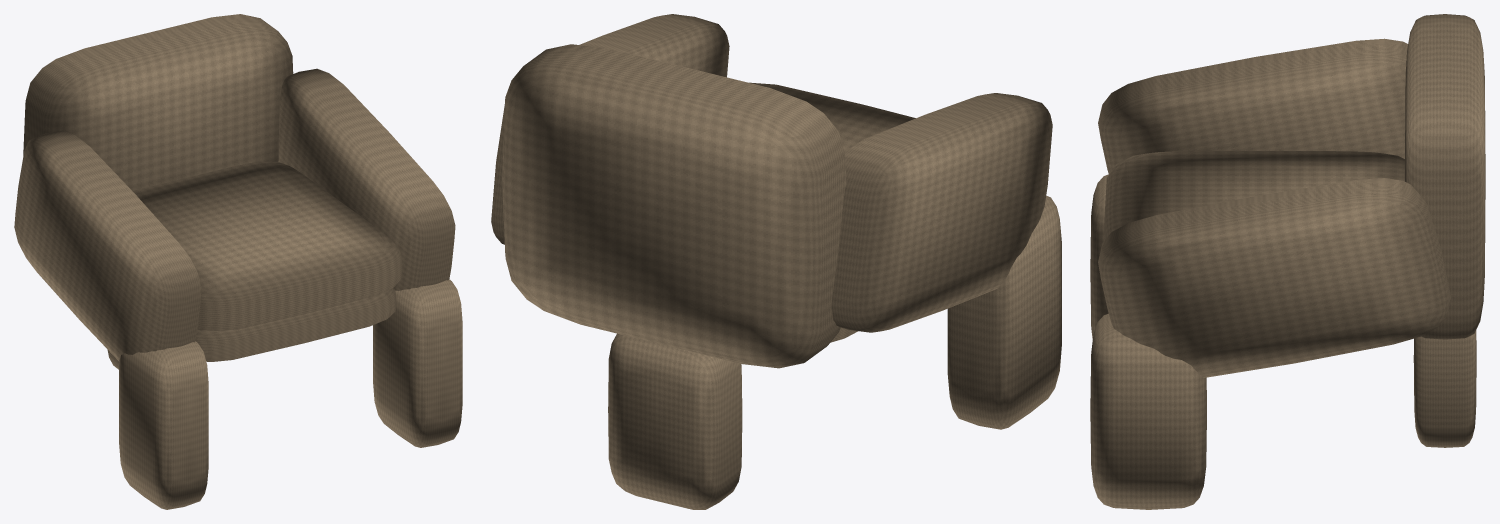
The picture shows the model from 3 angles, left to right: view 1: azimuth 30°, elevation 25°; view 2: azimuth 150°, elevation 25°; view 3: azimuth 270°, elevation 25°; orthographic projection. The views are drawn at different scales.
Visible parts, largest first — view 1: 3 backrest, 1 seat, 4 left_armrest, 5 right_armrest, 6 left_front_leg, 7 right_front_leg, 2 seat_base; view 2: 3 backrest, 4 left_armrest, 8 back_leg, 6 left_front_leg, 5 right_armrest, 1 seat; view 3: 5 right_armrest, 4 left_armrest, 3 backrest, 7 right_front_leg, 1 seat, 8 back_leg, 6 left_front_leg.
Part boxes in pixels (left/top/right/bottom): 3 backrest: left=23, top=14, right=293, bottom=190; 1 seat: left=132, top=161, right=402, bottom=330; 4 left_armrest: left=14, top=130, right=201, bottom=361; 5 right_armrest: left=278, top=68, right=455, bottom=290; 6 left_front_leg: left=119, top=341, right=208, bottom=509; 7 right_front_leg: left=373, top=279, right=462, bottom=447; 2 seat_base: left=195, top=288, right=396, bottom=361; 3 backrest: left=502, top=44, right=846, bottom=368; 4 left_armrest: left=831, top=93, right=1052, bottom=332; 8 back_leg: left=608, top=333, right=742, bottom=509; 6 left_front_leg: left=947, top=196, right=1061, bottom=429; 5 right_armrest: left=491, top=14, right=729, bottom=244; 1 seat: left=749, top=82, right=915, bottom=153; 5 right_armrest: left=1098, top=178, right=1450, bottom=377; 4 left_armrest: left=1098, top=38, right=1407, bottom=174; 3 backrest: left=1404, top=14, right=1485, bottom=339; 7 right_front_leg: left=1090, top=313, right=1206, bottom=509; 1 seat: left=1103, top=151, right=1404, bottom=240; 8 back_leg: left=1413, top=330, right=1476, bottom=447; 6 left_front_leg: left=1090, top=174, right=1108, bottom=339.
Size of the model in its own units: 0.6858 by 0.7112 by 0.6858.
1 material, 1 textured.
